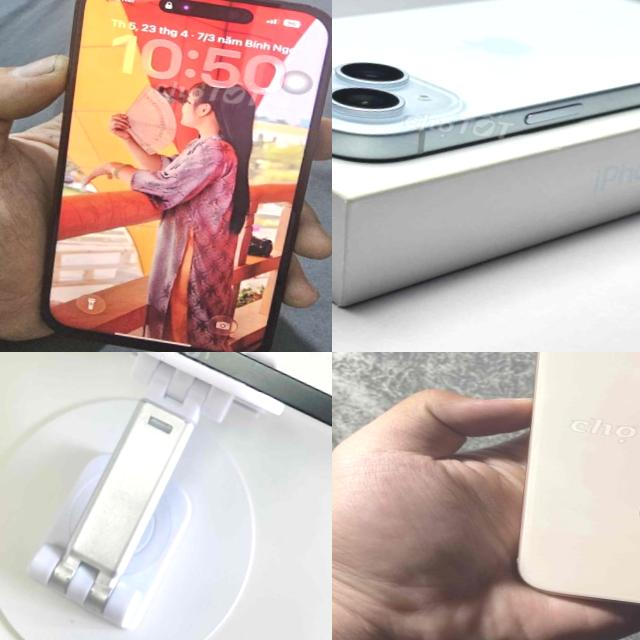gen_14: (13, 0, 332, 352)
gen_15: (332, 0, 640, 215)
gen_16: (148, 352, 332, 426)
gen_7_8: (484, 352, 640, 640)
